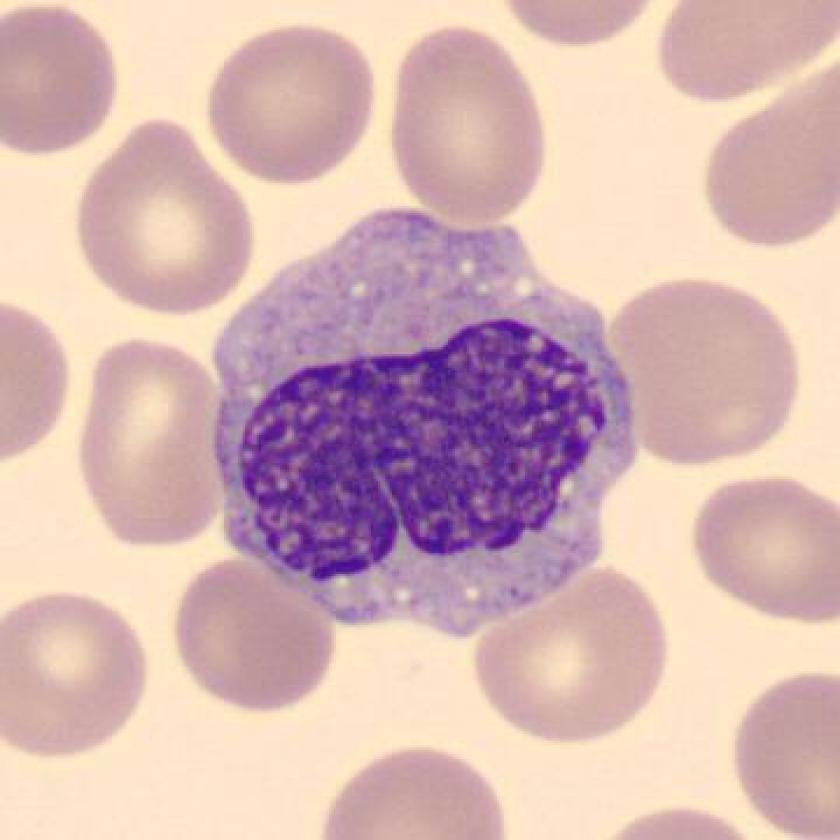monocyte: (185, 193, 659, 654)
